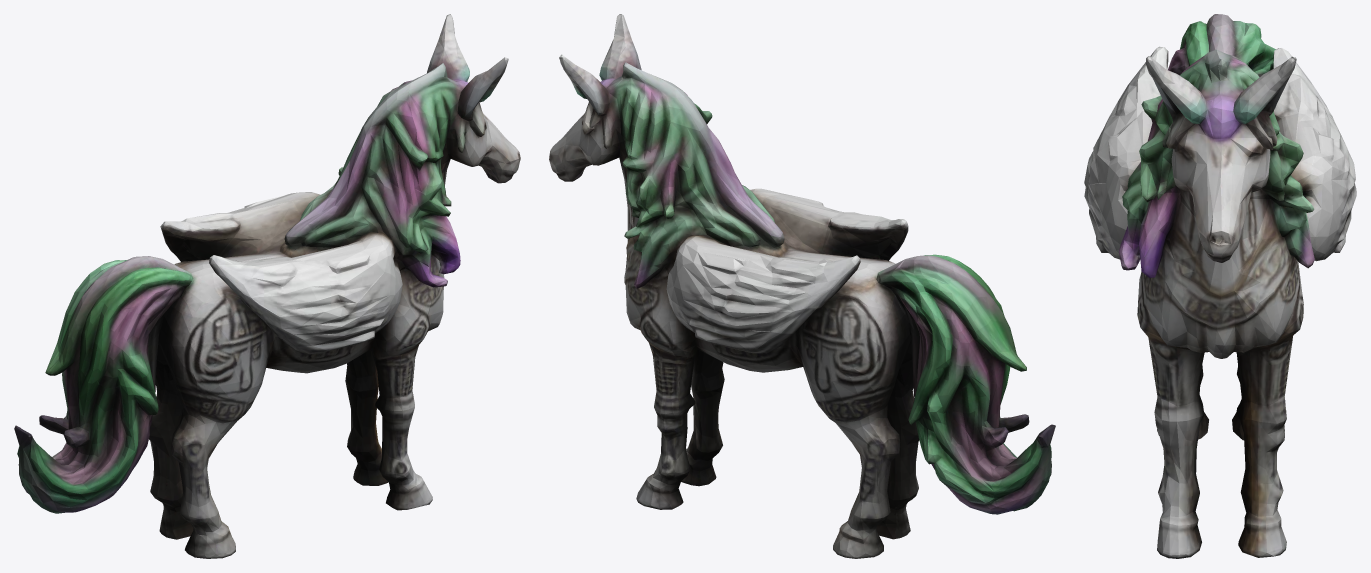
Rendered from auroracorn.glb.
3 renders of one model, left to right at view 1: azimuth 30°, elevation 25°; view 2: azimuth 150°, elevation 25°; view 3: azimuth 270°, elevation 25°, orthographic. The views are drawn at different scales.
Parts seen in each view (by area): view 1: world; view 2: world; view 3: world.
Part boxes in pixels (x1=…): world: x1=14, y1=14, x2=520, y2=558; world: x1=549, y1=14, x2=1055, y2=558; world: x1=1084, y1=14, x2=1356, y2=558.
Size of the model in its own units: 0.9994 by 0.8407 by 0.3806.
1 material, 1 textured.
